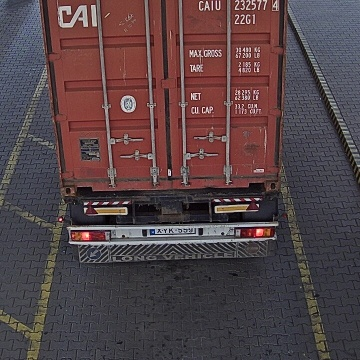serial_id: (199, 0, 278, 10)
